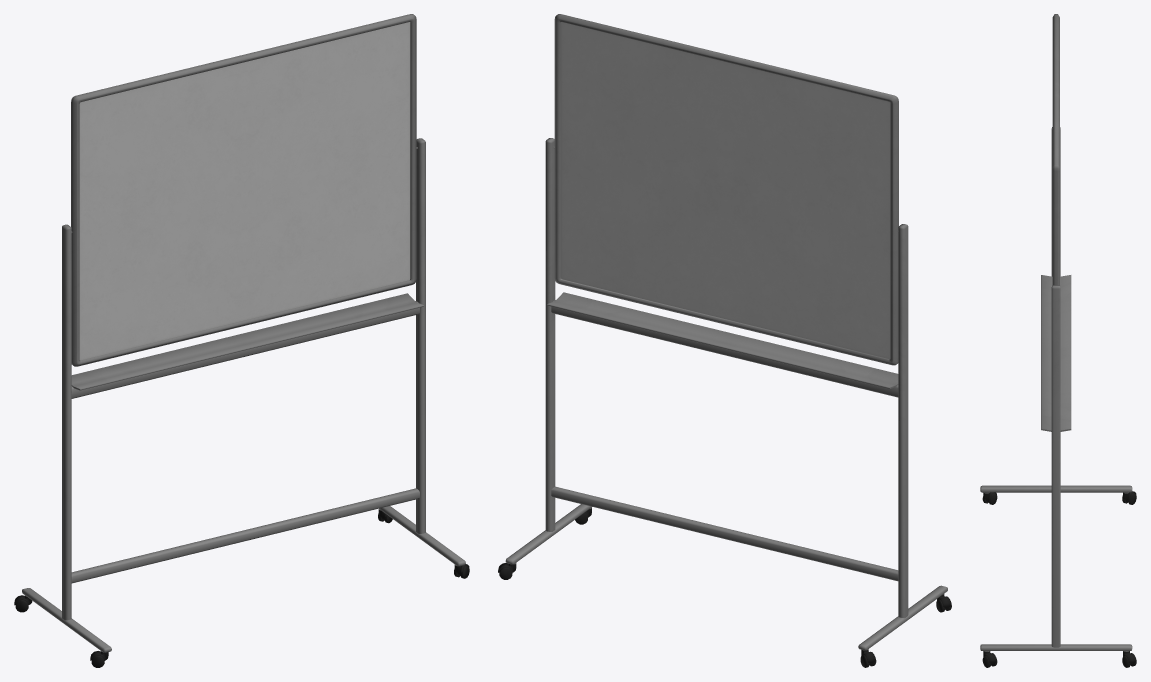
File: SM_Whiteboard_120_90.FBX
3 renders of one model, left to right at view 1: azimuth 30°, elevation 25°; view 2: azimuth 150°, elevation 25°; view 3: azimuth 270°, elevation 25°, orthographic. The views are drawn at different scales.
Visible parts, largest first — view 1: Whiteboard_120_90; view 2: Whiteboard_120_90; view 3: Whiteboard_120_90.
Part boxes in pixels (<box>): Whiteboard_120_90: <box>14,14,469,667</box>; Whiteboard_120_90: <box>498,14,951,667</box>; Whiteboard_120_90: <box>980,14,1136,667</box>.
Size of the model in its own units: 132 by 180 by 51.46.
